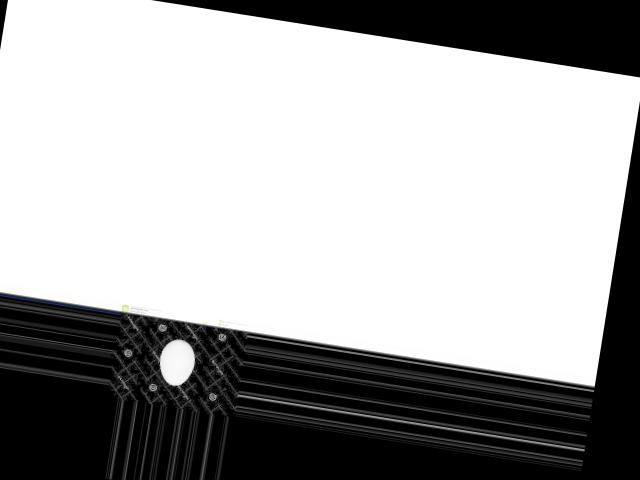egg: (157, 337, 199, 388)
